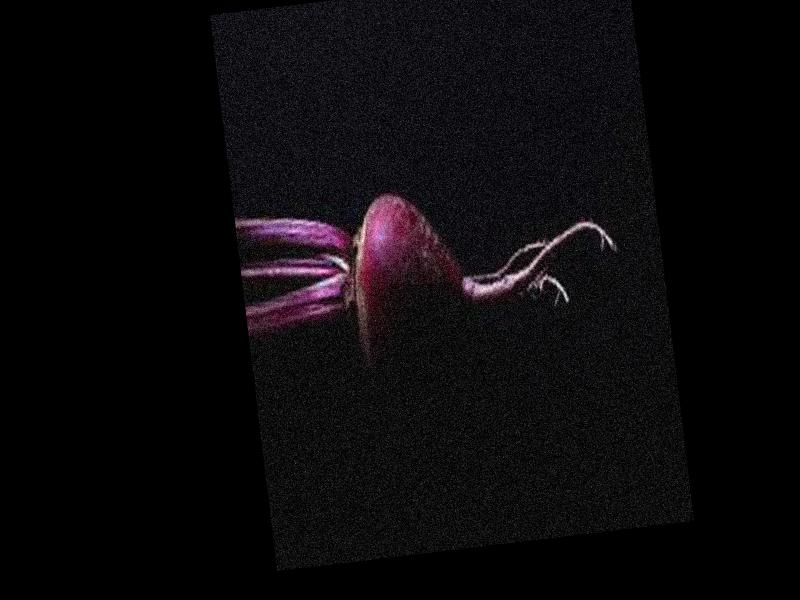Beet: (234, 155, 630, 404)
